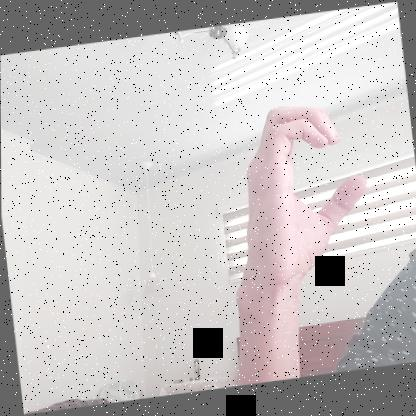C: (225, 96, 380, 290)
